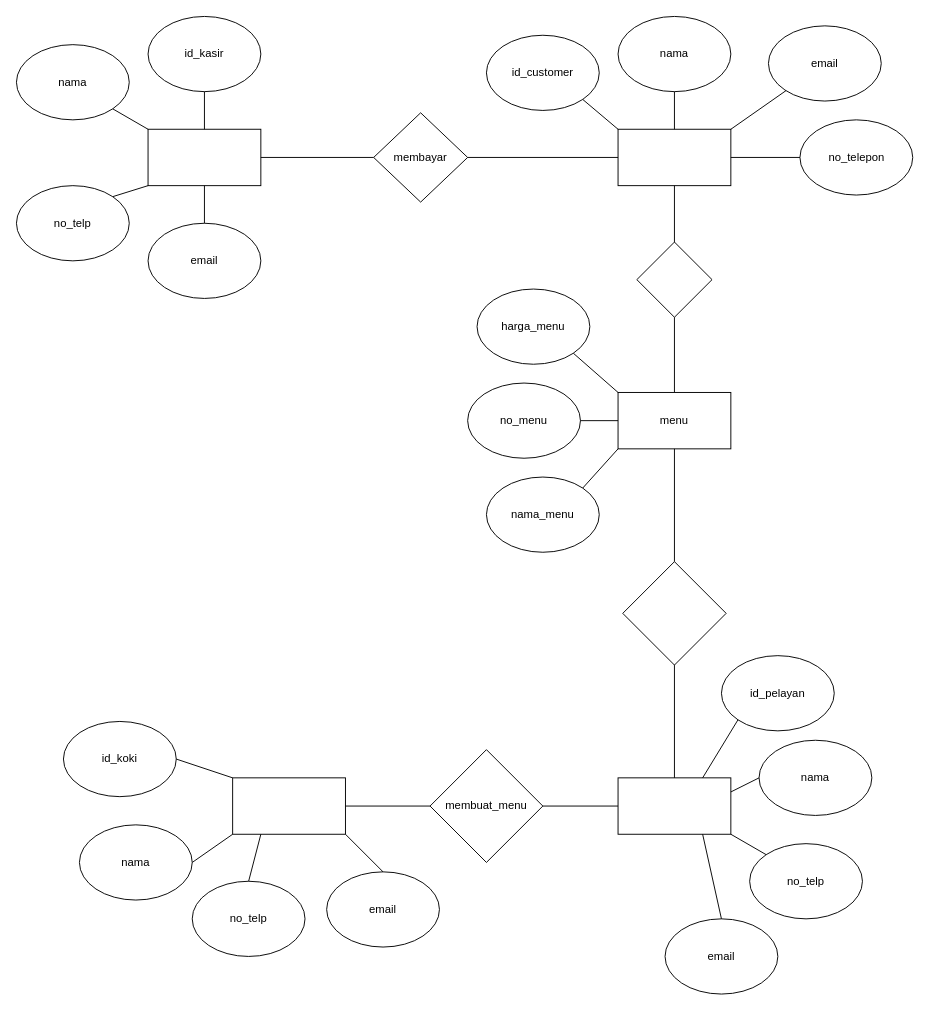
Some shapes in this 930 by 1011 pixel diagram are drawn without their labels. Here are the shapes that lost their labels. From the top down, the centre of each, then its label:
the point at 204,157: kasir
the point at 674,157: customer
the point at 674,279: memesan
the point at 674,613: mencatat
the point at 288,805: koki
the point at 674,805: pelayan
